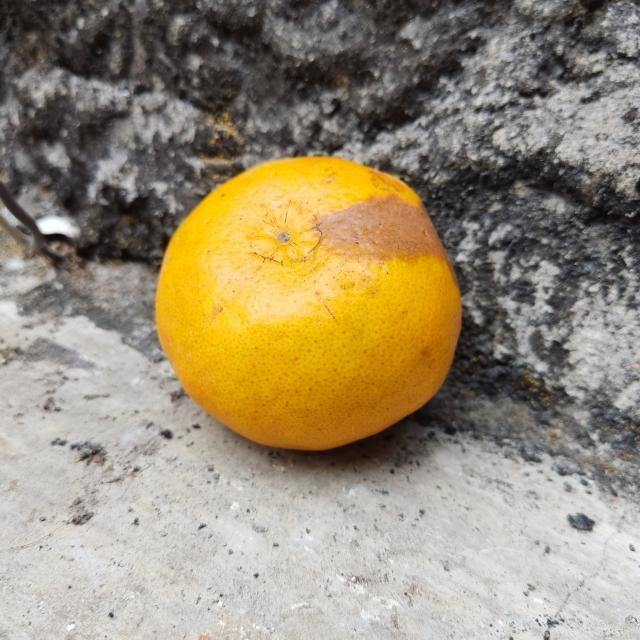agrume: (153, 156, 459, 451)
